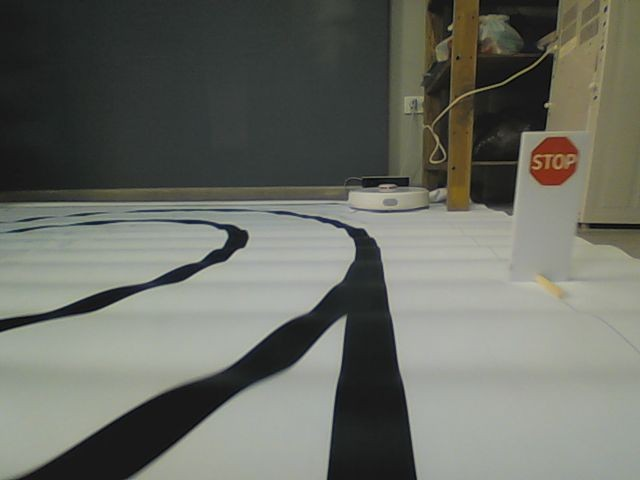Stop: (529, 135, 579, 186)
